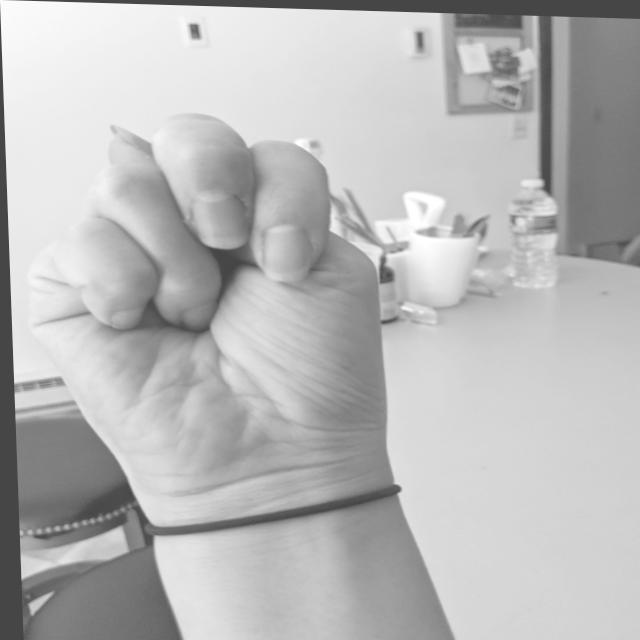N: (11, 103, 399, 517)
